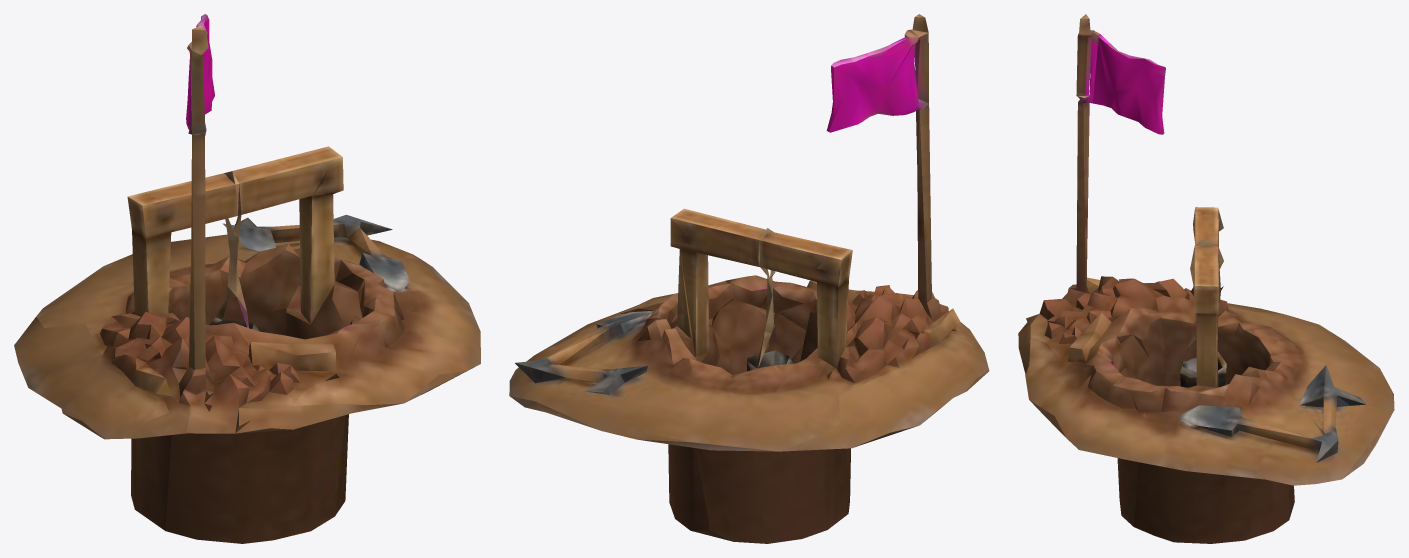
File: clay_mine.lod2.glb
3 renders of one model, left to right at view 1: azimuth 30°, elevation 25°; view 2: azimuth 150°, elevation 25°; view 3: azimuth 270°, elevation 25°, orthographic. The views are drawn at different scales.
Visible parts, largest first — view 1: clay_mine.lod2_uv; view 2: clay_mine.lod2_uv; view 3: clay_mine.lod2_uv.
Boxes of the visible parts, x1=… form: clay_mine.lod2_uv: x1=14, y1=14, x2=480, y2=543; clay_mine.lod2_uv: x1=509, y1=14, x2=989, y2=543; clay_mine.lod2_uv: x1=1018, y1=14, x2=1394, y2=543.
Size of the model in its own units: 1.6 by 1.9 by 1.45.
Materials: 1 (1 with a texture image).
